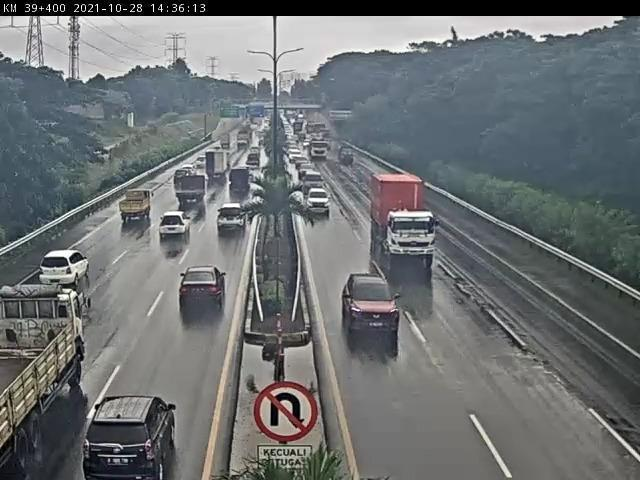car: (82, 396, 178, 480), (340, 273, 402, 337), (39, 248, 92, 288), (180, 267, 231, 308), (216, 202, 254, 237), (154, 215, 190, 248), (305, 187, 334, 216), (225, 168, 253, 196), (304, 170, 327, 193), (179, 164, 199, 180), (174, 169, 193, 182)
truck: (1, 286, 87, 478), (368, 172, 439, 270), (121, 190, 154, 225), (174, 176, 210, 207), (205, 152, 230, 183)
